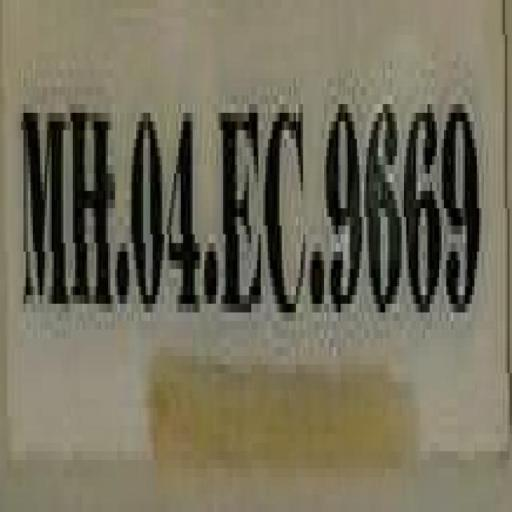number plate: (5, 0, 512, 417)
